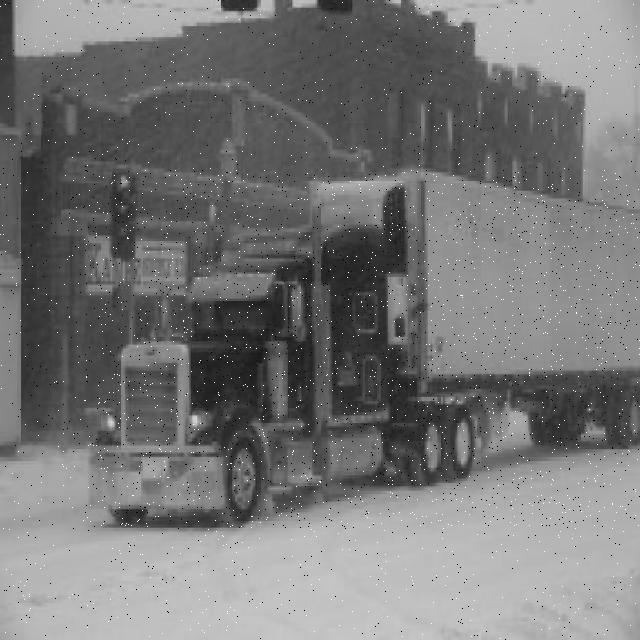Tractor Trailer: (84, 170, 640, 529)
